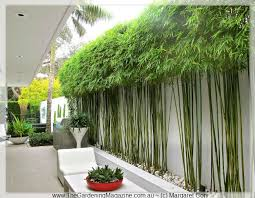bamboo: (175, 4, 250, 187), (122, 5, 172, 163), (91, 25, 123, 148), (59, 46, 91, 117)
